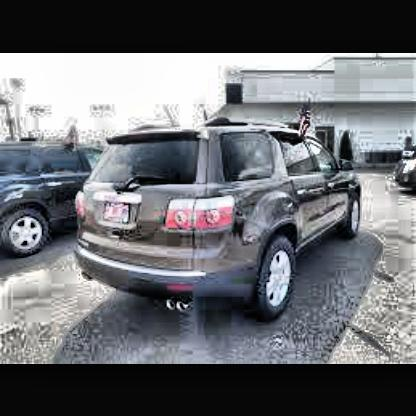GMC Acadia SUV 2012: (75, 110, 364, 322)
